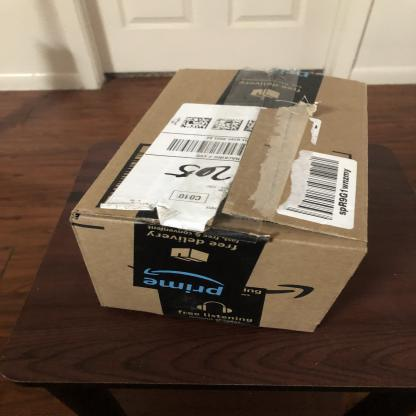package: (65, 64, 378, 338)
